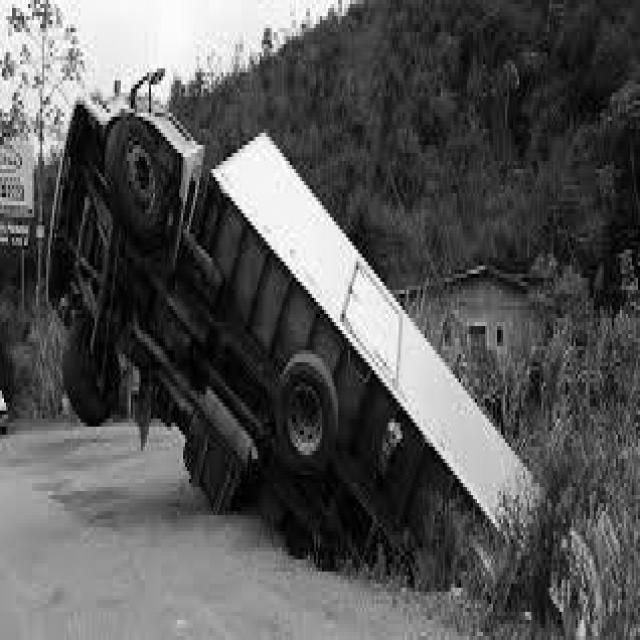single accident: (23, 27, 577, 620)
